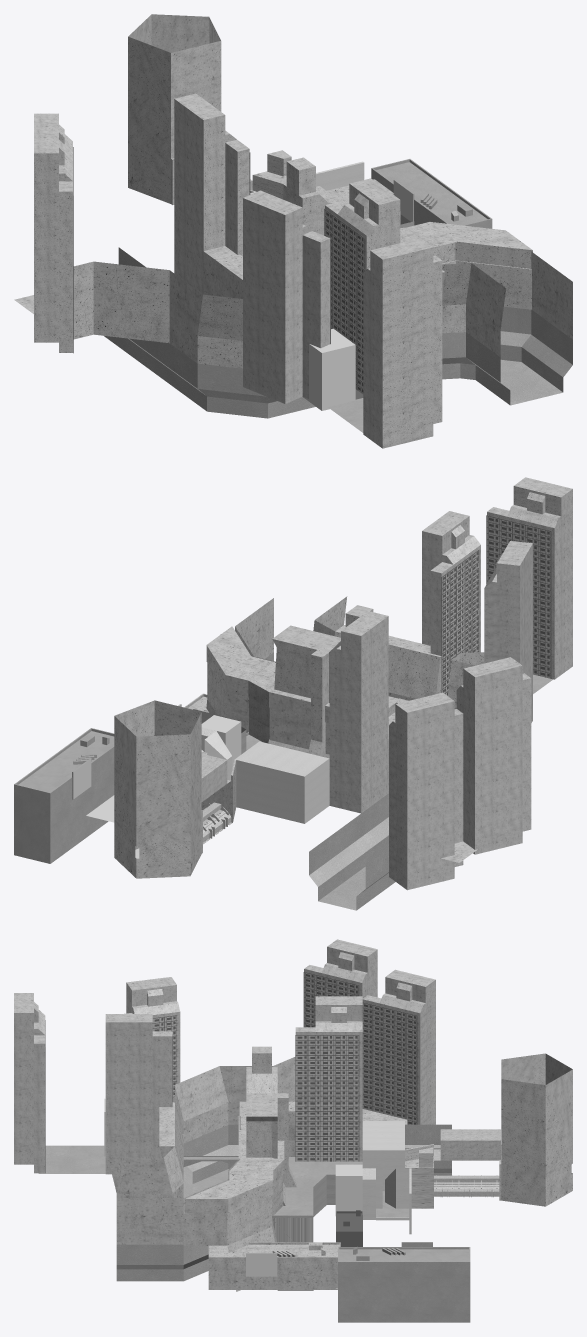
Rendered from City.fbx.
3 views of the same model, one above another, from view 1: azimuth 30°, elevation 25°; view 2: azimuth 150°, elevation 25°; view 3: azimuth 270°, elevation 25° (orthographic). The views are drawn at different scales.
Parts seen in each view (by area): view 1: Plane.011, Plane.024, Plane.022, Plane.010, Circle, Plane.012, Plane.025, Plane.019, Cube.003, Plane.021, Plane.013, Plane.014 (+4 smaller); view 2: Circle, Plane.026, Plane.025, Plane.012, Plane.022, Cube.003, Plane.019, Plane.014, Plane.011, Plane.010, Plane.016, Plane.024 (+5 smaller); view 3: Plane.011, Plane.012, Circle, Cube.003, Plane.026, Plane.019, Plane.014, Plane.010, Cube.001, Plane.022, Plane.013, Plane.025 (+11 smaller).
Boxes of the visible parts, bbox=[...] form: Plane.011: bbox=[14, 242, 572, 368]; Plane.024: bbox=[243, 190, 330, 403]; Plane.022: bbox=[363, 238, 442, 448]; Plane.010: bbox=[104, 247, 572, 418]; Circle: bbox=[128, 14, 221, 204]; Plane.012: bbox=[174, 93, 250, 294]; Plane.025: bbox=[34, 128, 73, 353]; Plane.019: bbox=[324, 178, 400, 393]; Cube.003: bbox=[371, 159, 492, 228]; Plane.021: bbox=[302, 328, 355, 410]; Plane.013: bbox=[283, 157, 393, 235]; Plane.014: bbox=[400, 222, 532, 252]; Circle: bbox=[114, 700, 202, 878]; Plane.026: bbox=[389, 692, 463, 890]; Plane.025: bbox=[456, 657, 531, 854]; Plane.012: bbox=[329, 611, 388, 813]; Plane.022: bbox=[486, 477, 572, 679]; Cube.003: bbox=[14, 728, 114, 863]; Plane.019: bbox=[422, 511, 480, 695]; Plane.014: bbox=[206, 626, 400, 754]; Plane.011: bbox=[235, 596, 484, 862]; Plane.010: bbox=[265, 652, 395, 910]; Plane.016: bbox=[235, 741, 329, 823]; Plane.024: bbox=[484, 541, 532, 722]; Plane.011: bbox=[108, 1057, 407, 1244]; Plane.012: bbox=[295, 996, 362, 1161]; Circle: bbox=[499, 1053, 572, 1206]; Cube.003: bbox=[338, 1242, 470, 1322]; Plane.026: bbox=[362, 969, 435, 1124]; Plane.019: bbox=[105, 1014, 172, 1174]; Plane.014: bbox=[183, 1115, 284, 1291]; Plane.010: bbox=[116, 1124, 451, 1281]; Cube.001: bbox=[208, 1242, 340, 1289]; Plane.022: bbox=[14, 993, 45, 1173]; Plane.013: bbox=[246, 1046, 296, 1205]; Plane.025: bbox=[303, 939, 377, 1027].
Bounding box in the file's own units: 19049 × 10245 × 25019.
